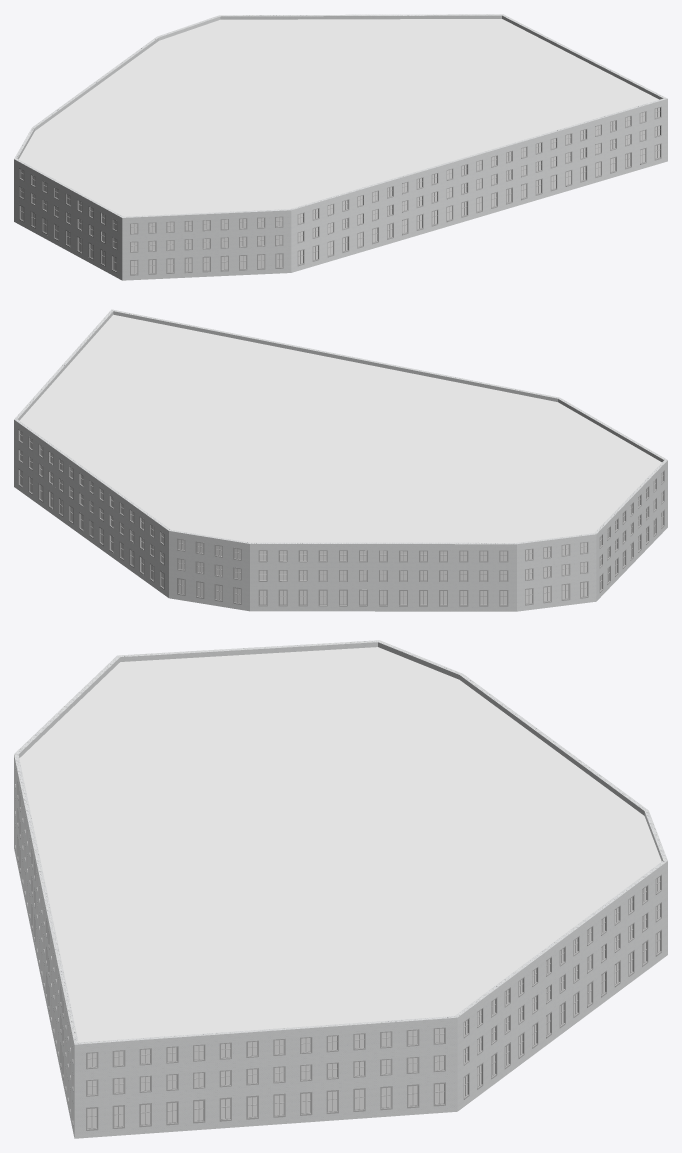
File: clohby3v903bh4p02javkr4uz_0.glb
3 renders of one model, top to bottom at view 1: azimuth 30°, elevation 25°; view 2: azimuth 150°, elevation 25°; view 3: azimuth 270°, elevation 25°, orthographic. The views are drawn at different scales.
Parts seen in each view (by area): view 1: mesh_CityEnginePBRShader, mesh_Brick, mesh_Rim, mesh_Glass; view 2: mesh_CityEnginePBRShader, mesh_Brick, mesh_Rim, mesh_Glass; view 3: mesh_CityEnginePBRShader, mesh_Brick, mesh_Rim, mesh_Glass.
Boxes of the visible parts, bbox=[...] form: mesh_CityEnginePBRShader: bbox=[19, 19, 658, 216]; mesh_Brick: bbox=[14, 14, 667, 280]; mesh_Rim: bbox=[19, 106, 661, 275]; mesh_Glass: bbox=[20, 107, 659, 273]; mesh_CityEnginePBRShader: bbox=[19, 314, 661, 542]; mesh_Brick: bbox=[14, 309, 667, 611]; mesh_Rim: bbox=[18, 429, 664, 606]; mesh_Glass: bbox=[20, 431, 662, 604]; mesh_CityEnginePBRShader: bbox=[19, 647, 661, 1042]; mesh_Brick: bbox=[14, 640, 667, 1138]; mesh_Rim: bbox=[15, 769, 661, 1130]; mesh_Glass: bbox=[87, 877, 659, 1128].
Bounding box in the file's own units: 107 × 11.57 × 72.92.
4 materials, 1 textured.
